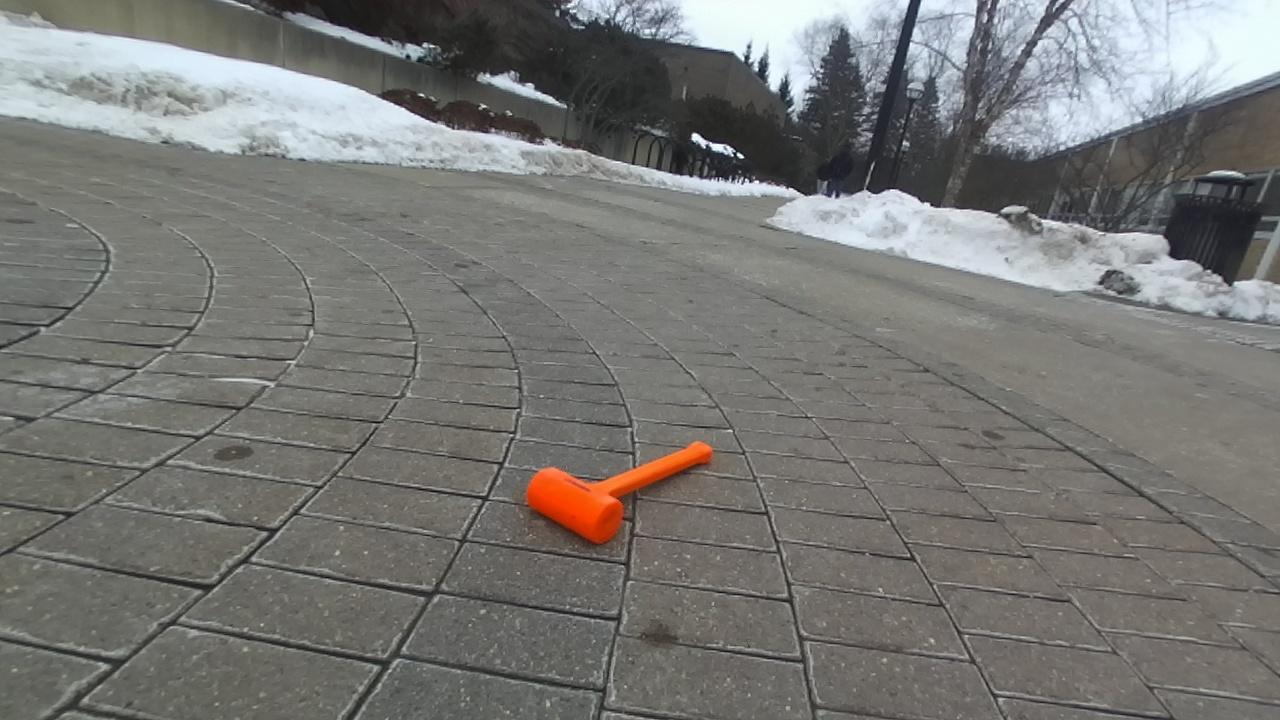mallet: (525, 442, 713, 543)
